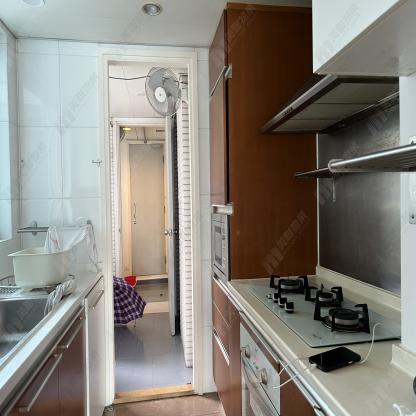Cupboard: (2, 305, 88, 416), (214, 278, 242, 416), (208, 9, 227, 206)
Exhaust Hood: (259, 71, 399, 133)
Oven: (240, 322, 283, 416)
Sink: (0, 297, 64, 367)
Stove: (249, 272, 402, 349)
